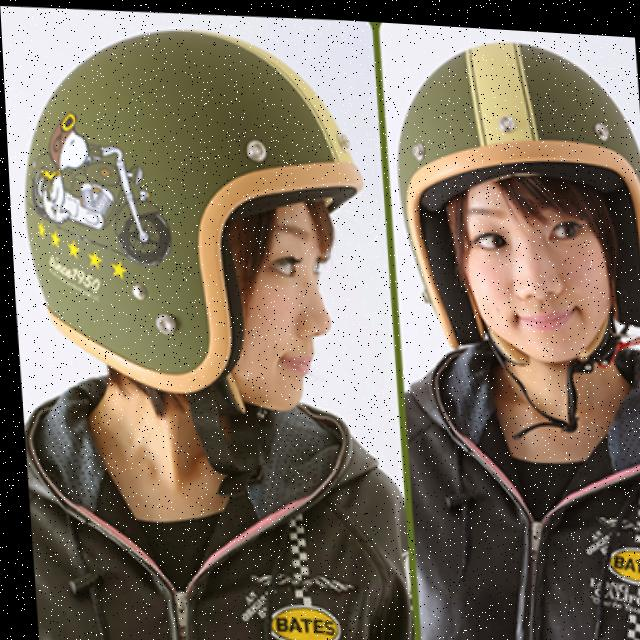helmet: (7, 3, 386, 513), (381, 18, 640, 437)
